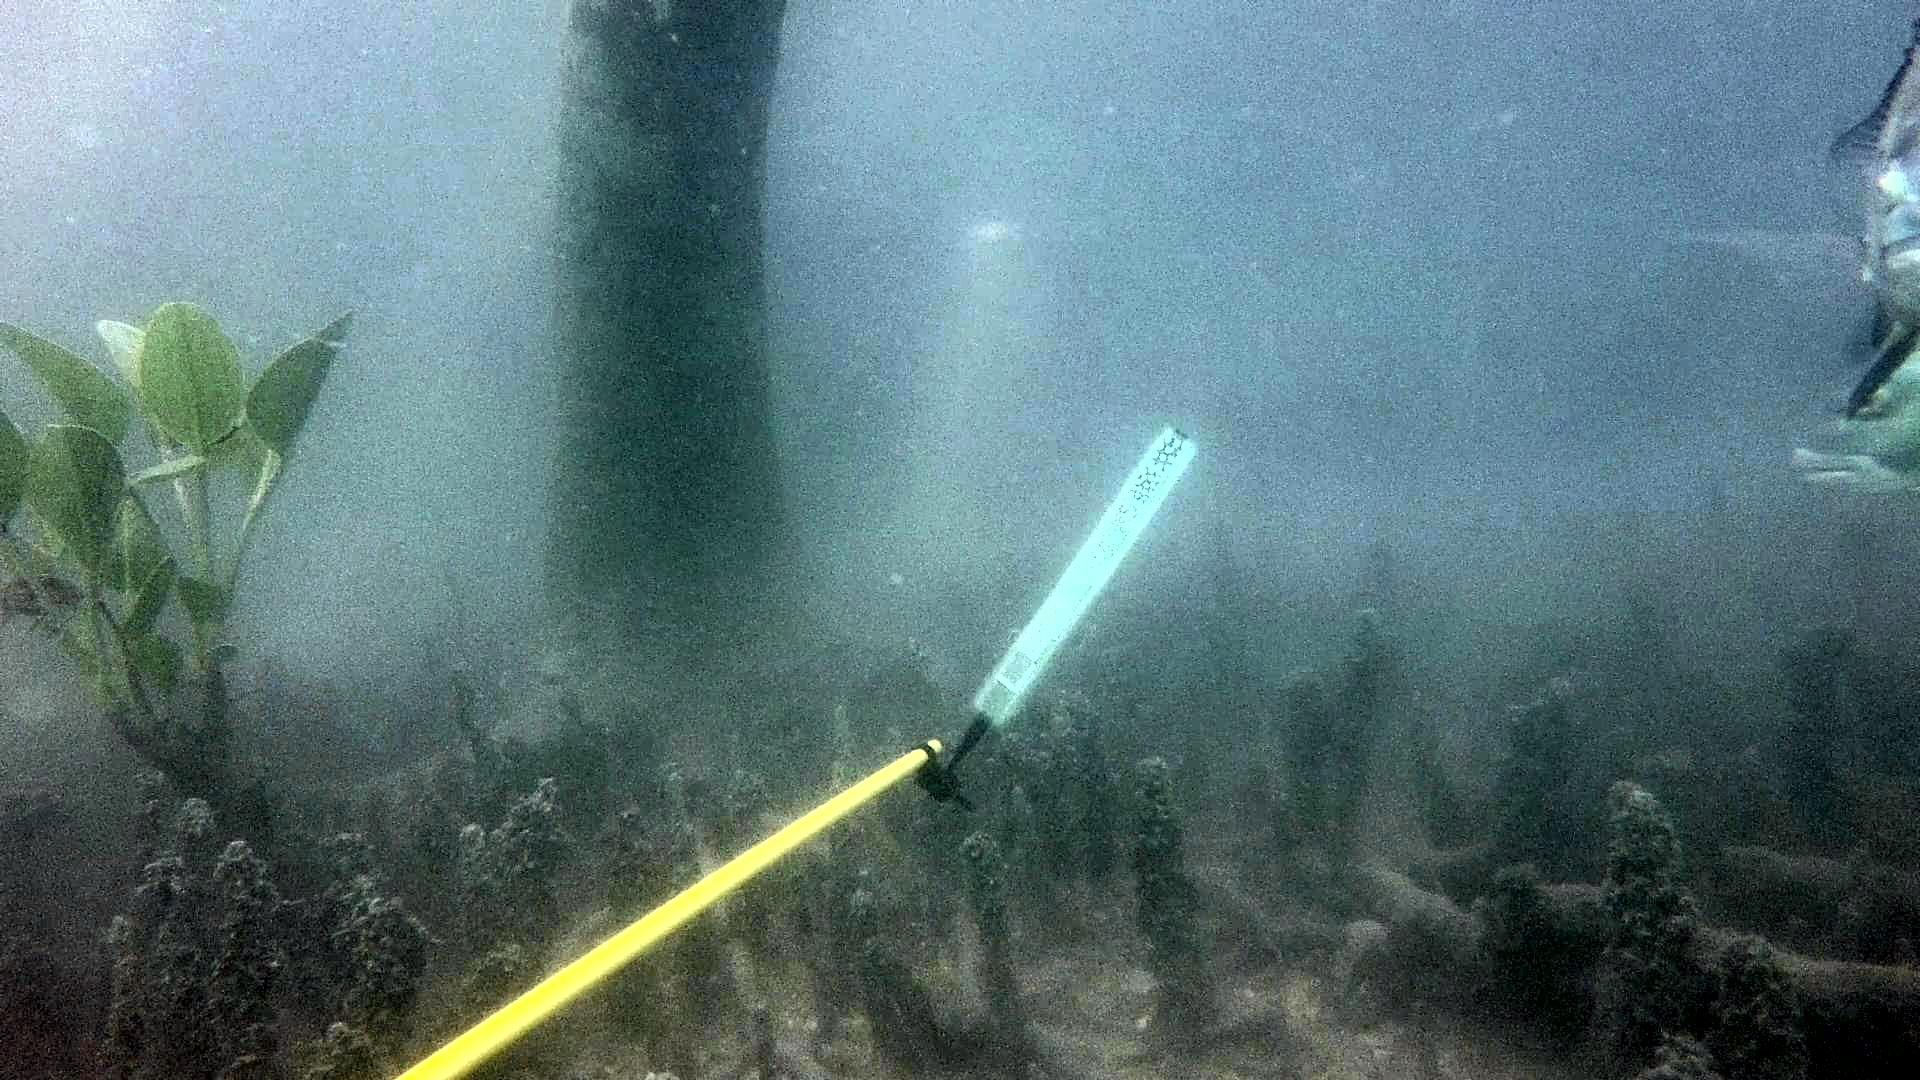acanthopagrus palmaris: (1673, 0, 1920, 431), (1774, 295, 1920, 516)
